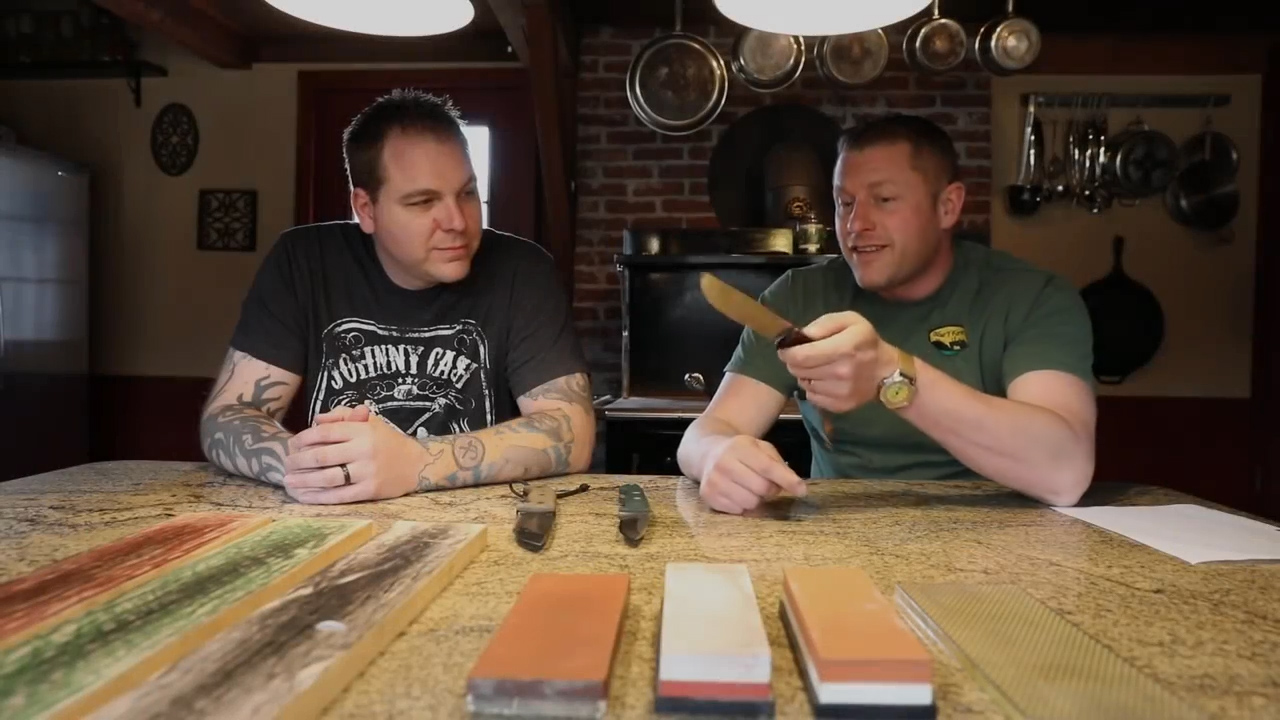knife: (685, 260, 868, 386)
